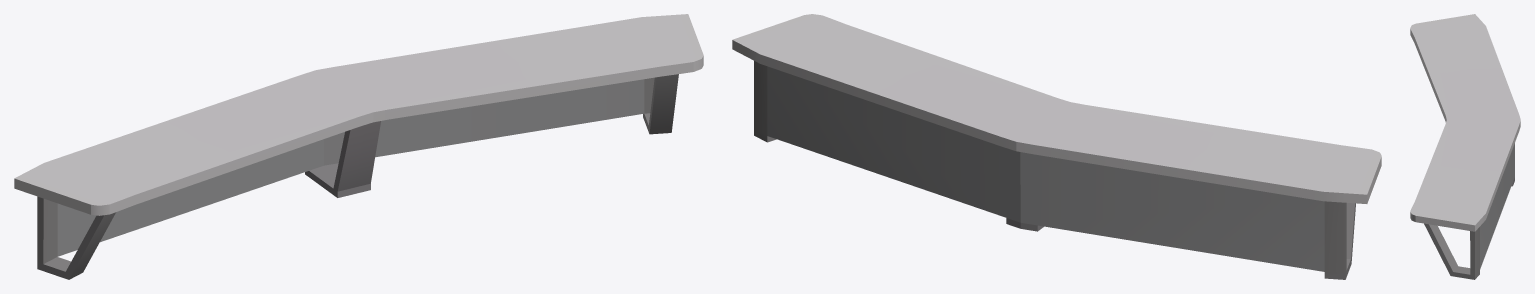
The model's file is computerRoomsTable.fbx.
3 renders of one model, left to right at view 1: azimuth 30°, elevation 25°; view 2: azimuth 150°, elevation 25°; view 3: azimuth 270°, elevation 25°, orthographic. The views are drawn at different scales.
Parts seen in each view (by area): view 1: table; view 2: table; view 3: table.
Part boxes in pixels (x1,y1,x2,y2): table: (14,14,703,279); table: (732,14,1381,279); table: (1410,14,1520,279).
Bounding box in the file's own units: 29666 × 4048 × 6561.
